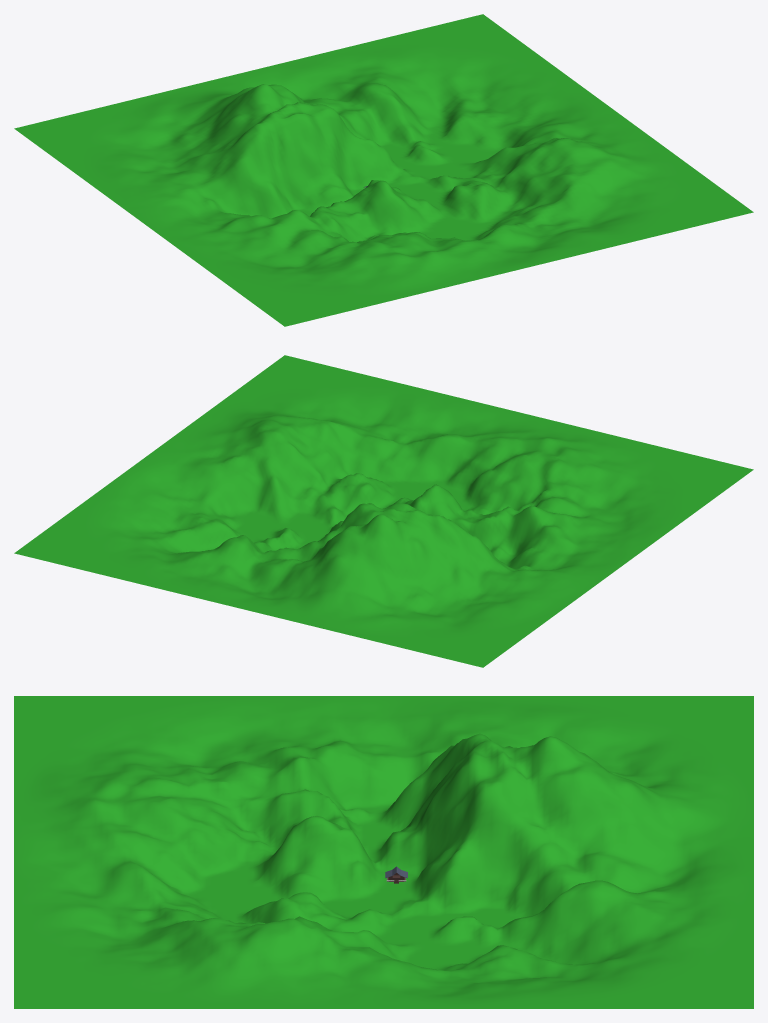
File: Terrain_Test.fbx
3 views of the same model, one above another, from view 1: azimuth 30°, elevation 25°; view 2: azimuth 150°, elevation 25°; view 3: azimuth 270°, elevation 25° (orthographic). The views are drawn at different scales.
Visible parts, largest first — view 1: Landscape.004; view 2: Landscape.004; view 3: Landscape.004.
Part boxes in pixels (x1=…): Landscape.004: x1=14, y1=14, x2=753, y2=326; Landscape.004: x1=14, y1=355, x2=753, y2=667; Landscape.004: x1=14, y1=696, x2=753, y2=1008.
Size of the model in its own units: 60000 by 9829 by 60000.
